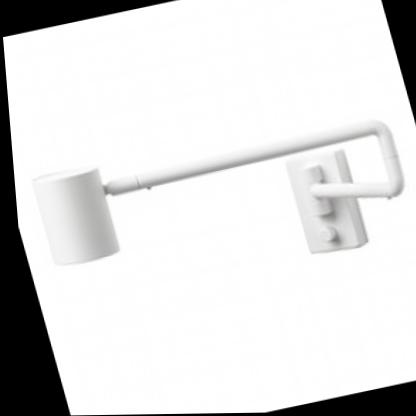Lamp: (2, 24, 416, 375)
